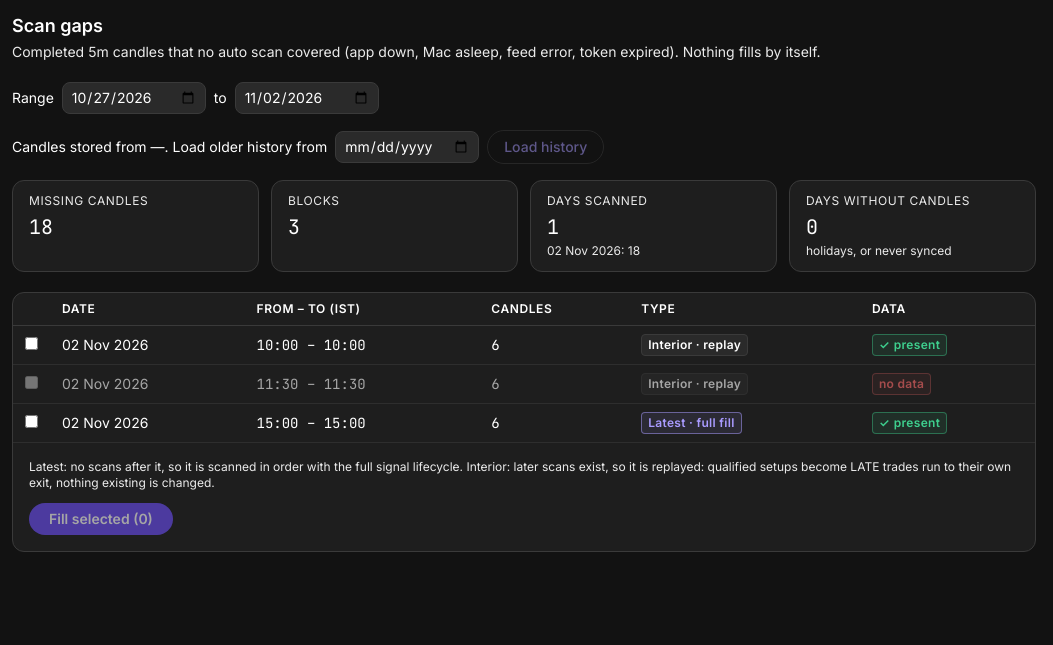
lists blocks and fills the selected ones after confirmation
The image size is (1053, 645).
Expected: the text "18" is shown, [29,214,53,240]
Expected: the text "Latest · full fill" is shown, [641,412,742,434]
Click the checkbox named "Select" at point(32, 422), box [25,415,38,428]
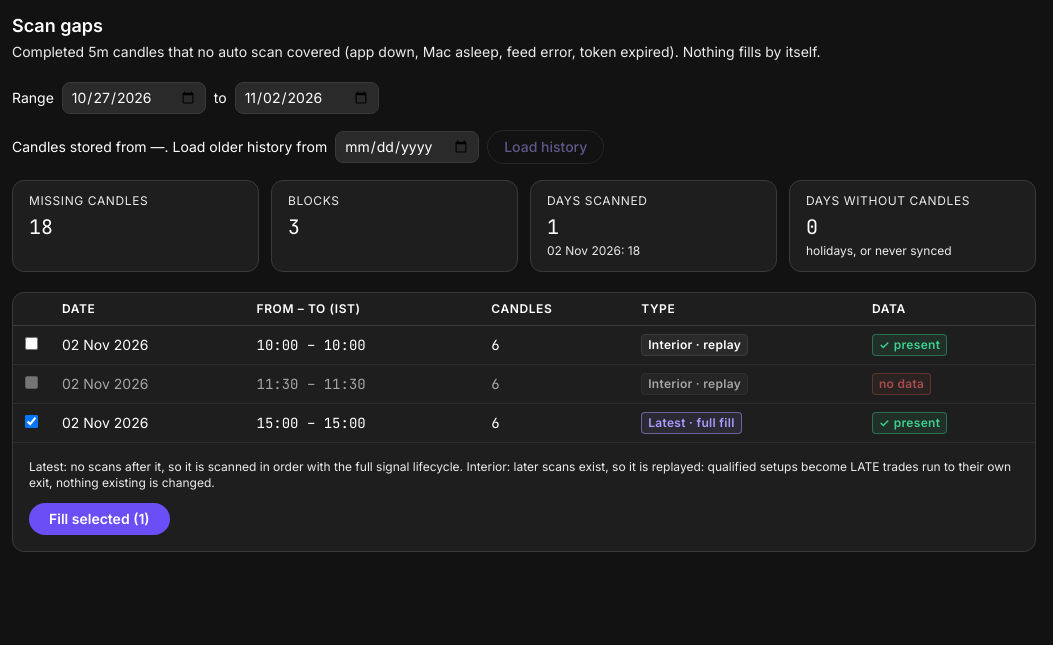
Click the button "Fill selected (1)" at point(99, 519), box [29,503,170,535]
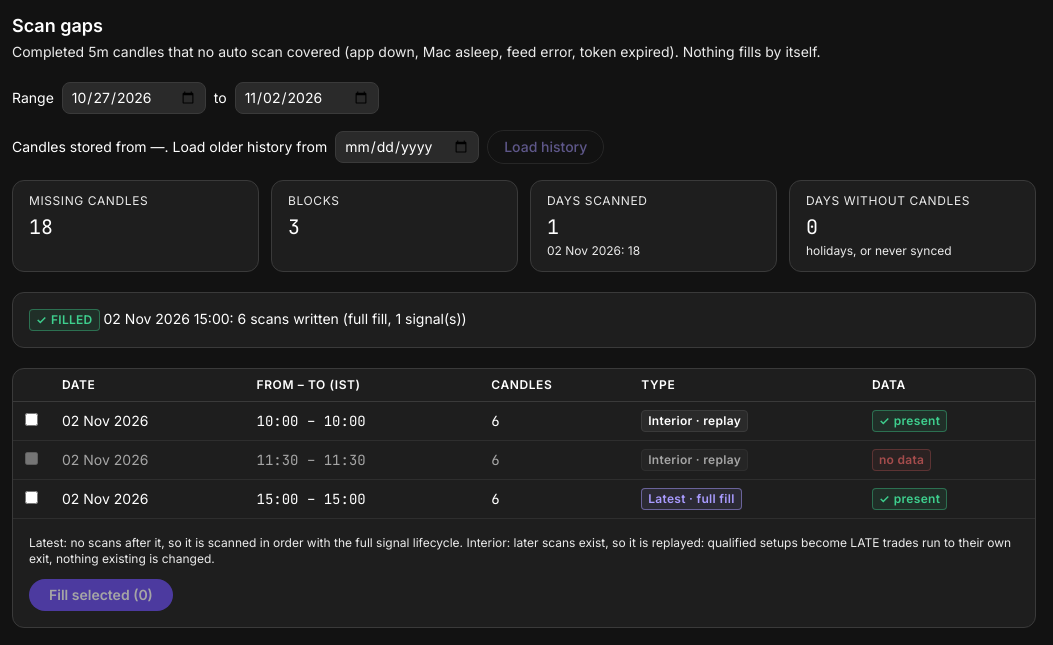
Result: the text "6 scans written (full fill, 1 signal" is shown at [238,310,467,327]
